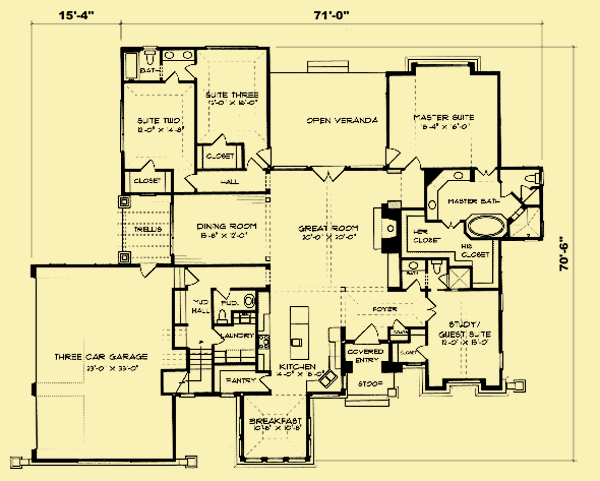bathroom is with a small and large sink: (212, 286, 261, 329)
master bathroom has a large tub, his and her sinks, large sink and shower space: (426, 168, 543, 239)
there is a kitchen which has a cooking range, counter and sink: (258, 291, 346, 398)
this bathroom has a dual sinks, large sink and tub space: (118, 45, 198, 86)
this bathroom has a small and large sink and shower space: (399, 257, 472, 291)
